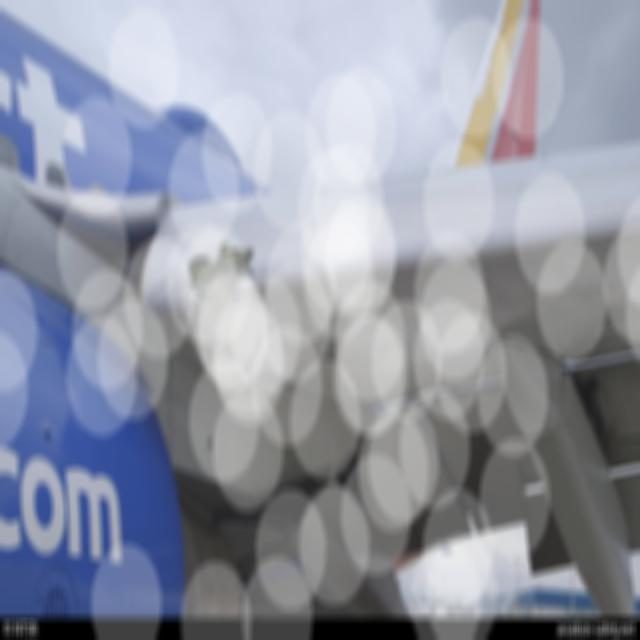crack: (190, 243, 261, 310)
